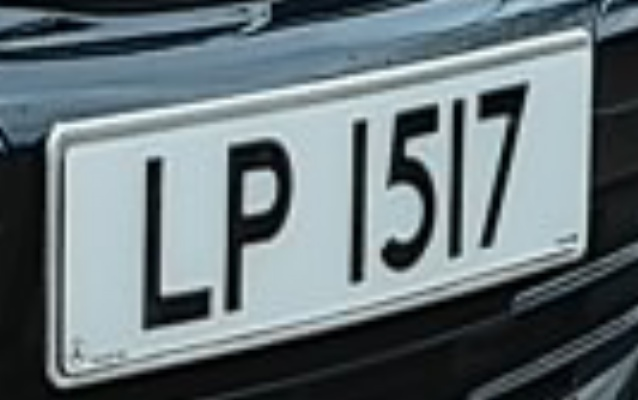1: (325, 81, 385, 313), (441, 61, 482, 287)
5: (374, 67, 442, 300)
7: (473, 45, 537, 273)
L: (121, 119, 224, 356)
P: (214, 103, 310, 341)
